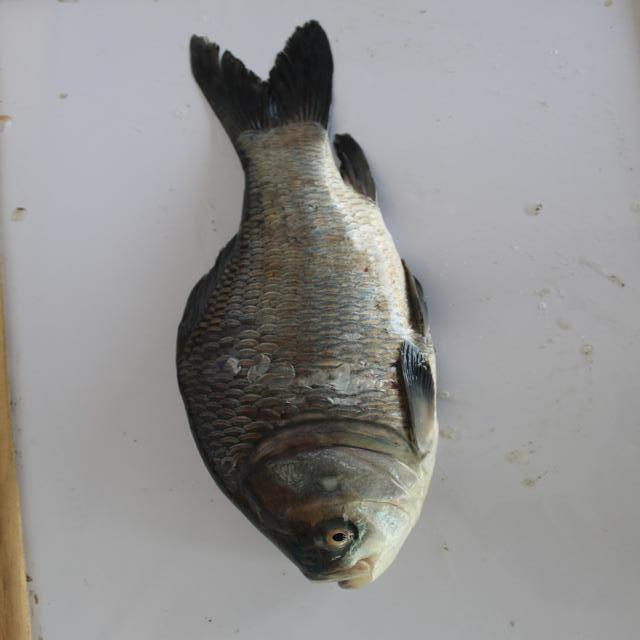Catla: (146, 19, 455, 594)
